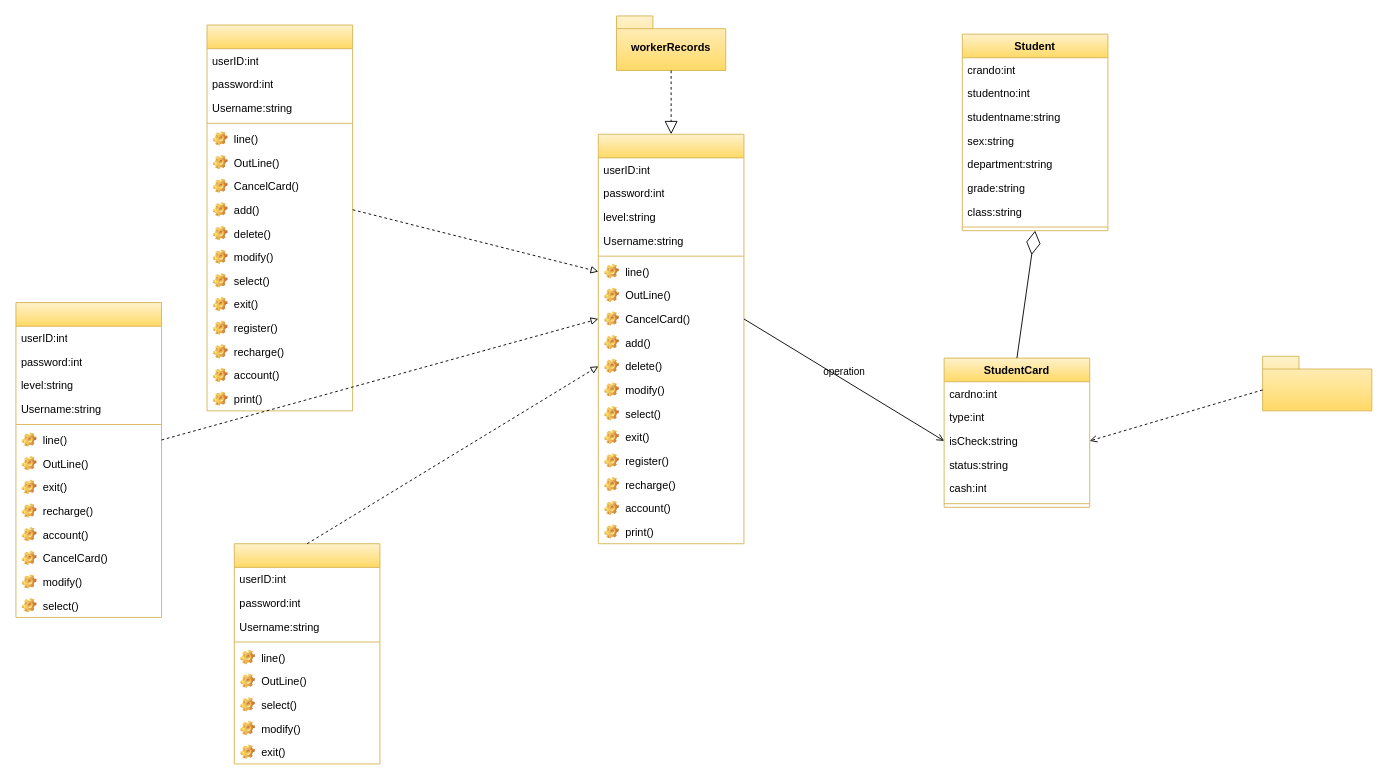
This 1388x783 diagram has some shape labels left out. The shapes that lost their labels are listed below. From the top down, each one's box as (x1, y1, x2, y2) in pixels, then its label:
(206, 24, 353, 411): Adminstator
(597, 133, 744, 544): Worker
(1262, 355, 1372, 411): StudentCords
(15, 302, 162, 617): Operator
(233, 543, 380, 764): GeneraUser
